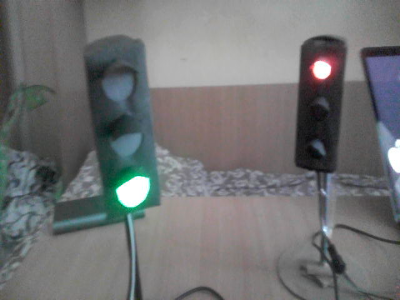trafficlight_green: (90, 54, 158, 209)
trafficlight_red: (296, 43, 342, 169)
